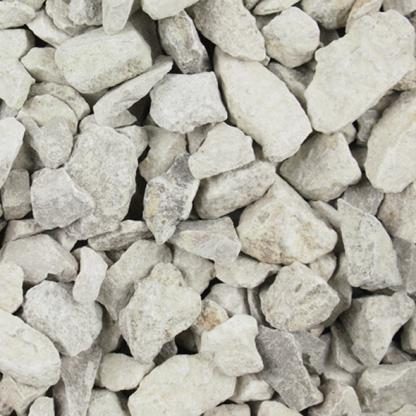Sedimentary_Limestone: (295, 11, 416, 126), (209, 51, 311, 165), (236, 171, 345, 266), (44, 19, 153, 96), (122, 258, 202, 360), (52, 132, 138, 224), (21, 276, 106, 366), (334, 193, 406, 298), (149, 63, 232, 134), (191, 155, 276, 221), (290, 132, 366, 199), (198, 314, 267, 380), (195, 0, 271, 59)
